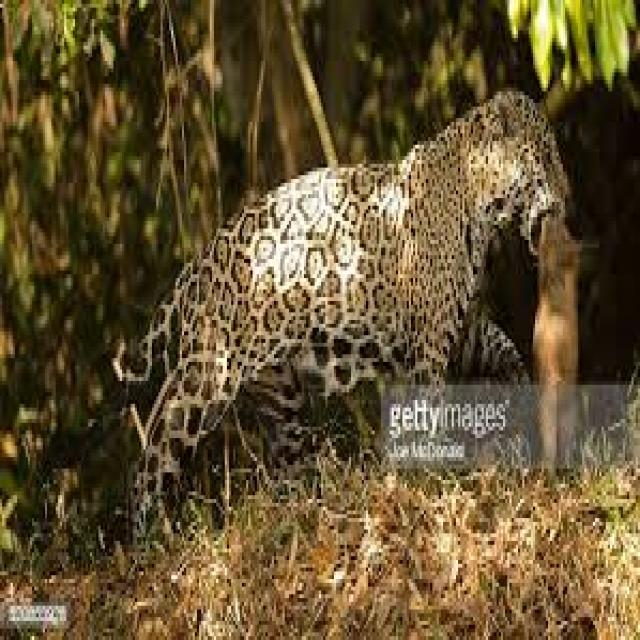Jaguar: (165, 95, 567, 392)
